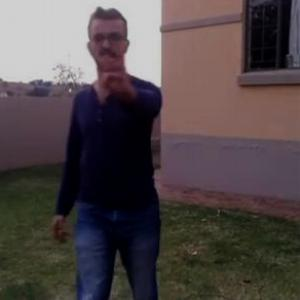takeoff-hand: (95, 45, 138, 106)
